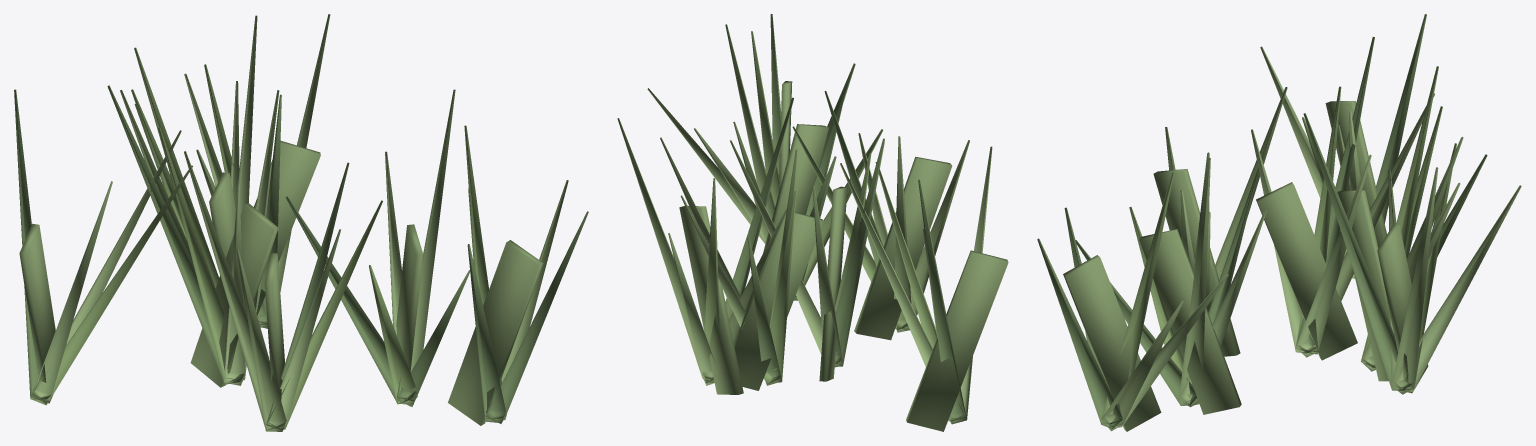
File: grass_tuft.glb
3 views of the same model, side by side, from view 1: azimuth 30°, elevation 25°; view 2: azimuth 150°, elevation 25°; view 3: azimuth 270°, elevation 25° (orthographic). The views are drawn at different scales.
Visible parts, largest first — view 1: geometry_0; view 2: geometry_0; view 3: geometry_0.
Part boxes in pixels (<box>): geometry_0: <box>14,14,588,431</box>; geometry_0: <box>617,14,1008,431</box>; geometry_0: <box>1037,14,1521,431</box>.
Size of the model in its own units: 0.8838 by 0.5411 by 0.8394.
